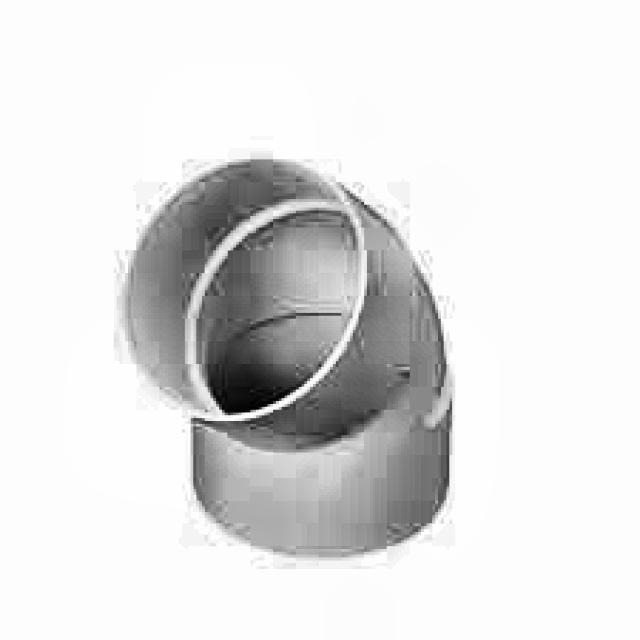ELBOW45: (119, 156, 455, 563)
